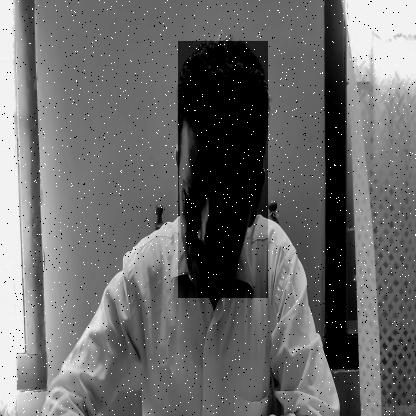Normal: (178, 41, 268, 298)
